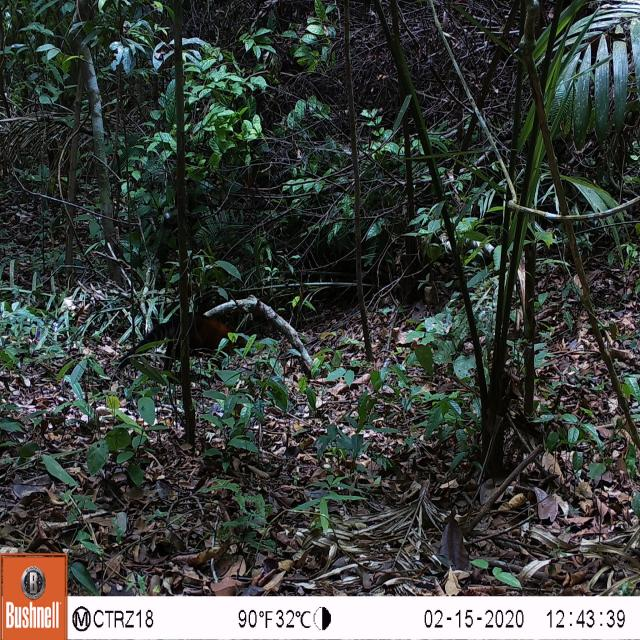South American Coati: (177, 297, 251, 369)
